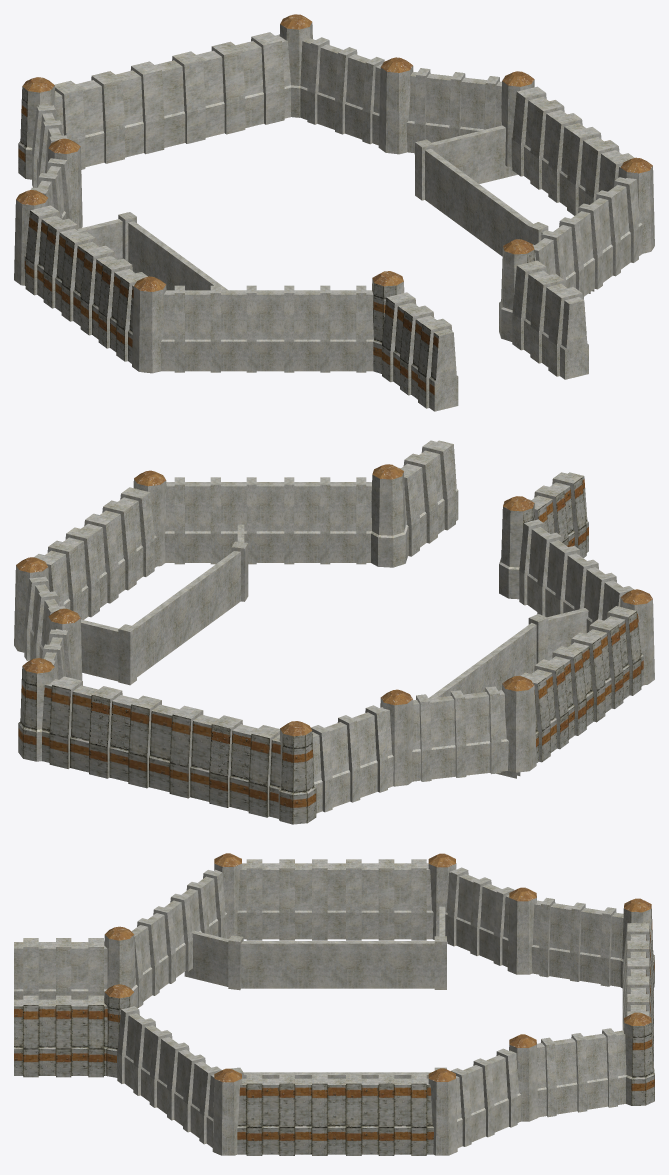
The model's file is poi_all_rebl_corral_64x64_s01_l0.fbx.
3 views of the same model, one above another, from view 1: azimuth 30°, elevation 25°; view 2: azimuth 150°, elevation 25°; view 3: azimuth 270°, elevation 25° (orthographic). The views are drawn at different scales.
Parts seen in each view (by area): view 1: mesh_node; view 2: mesh_node; view 3: mesh_node.
Boxes of the visible parts, bbox=[...] form: mesh_node: bbox=[14, 14, 654, 411]; mesh_node: bbox=[14, 440, 654, 824]; mesh_node: bbox=[14, 853, 654, 1155].
Size of the model in its own units: 43.5 by 8.4 by 51.63.
